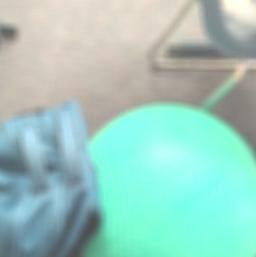algae: (80, 100, 256, 257)
